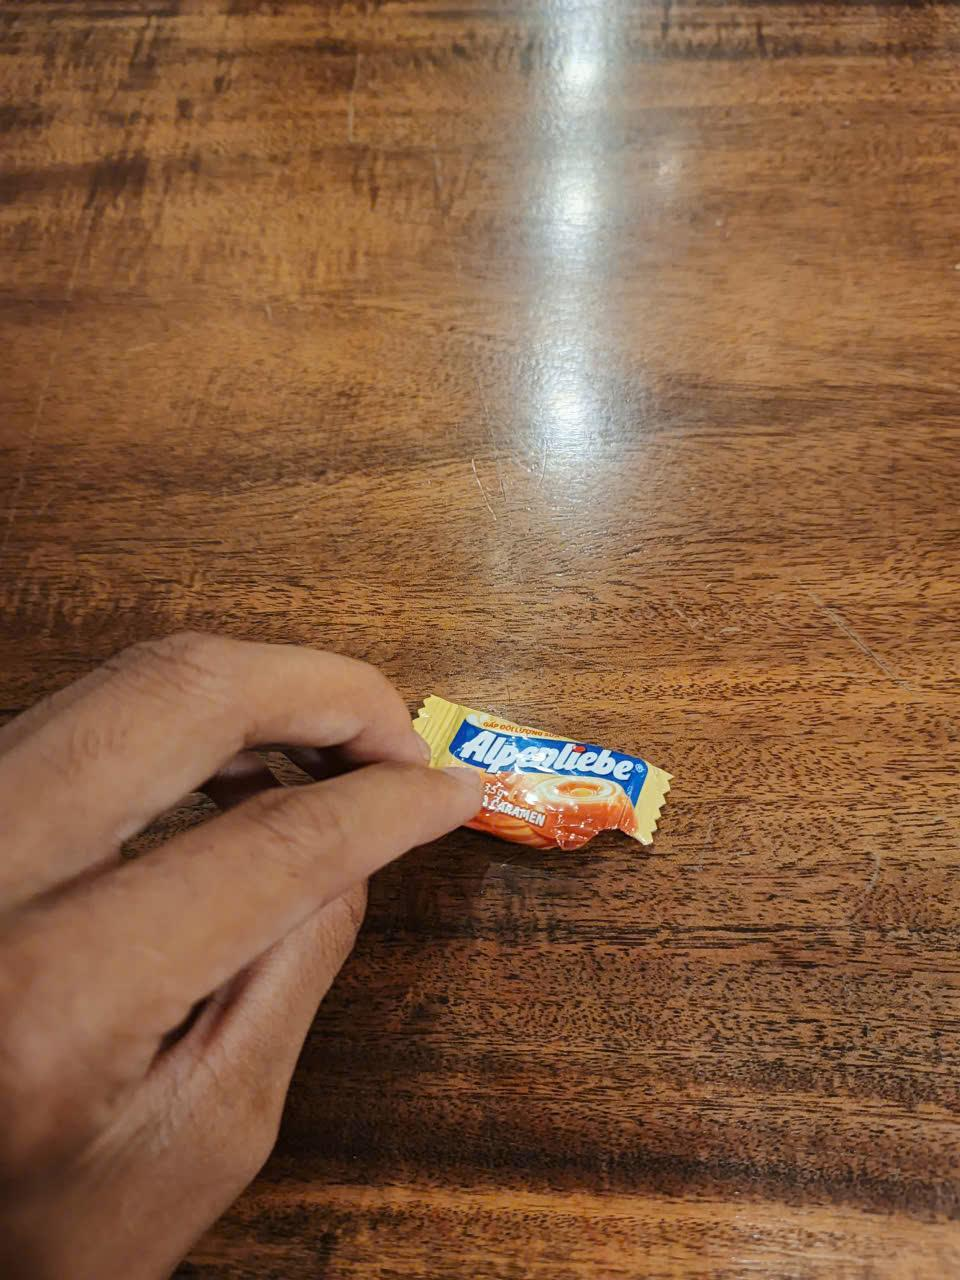Con lai: (395, 693, 676, 865)
